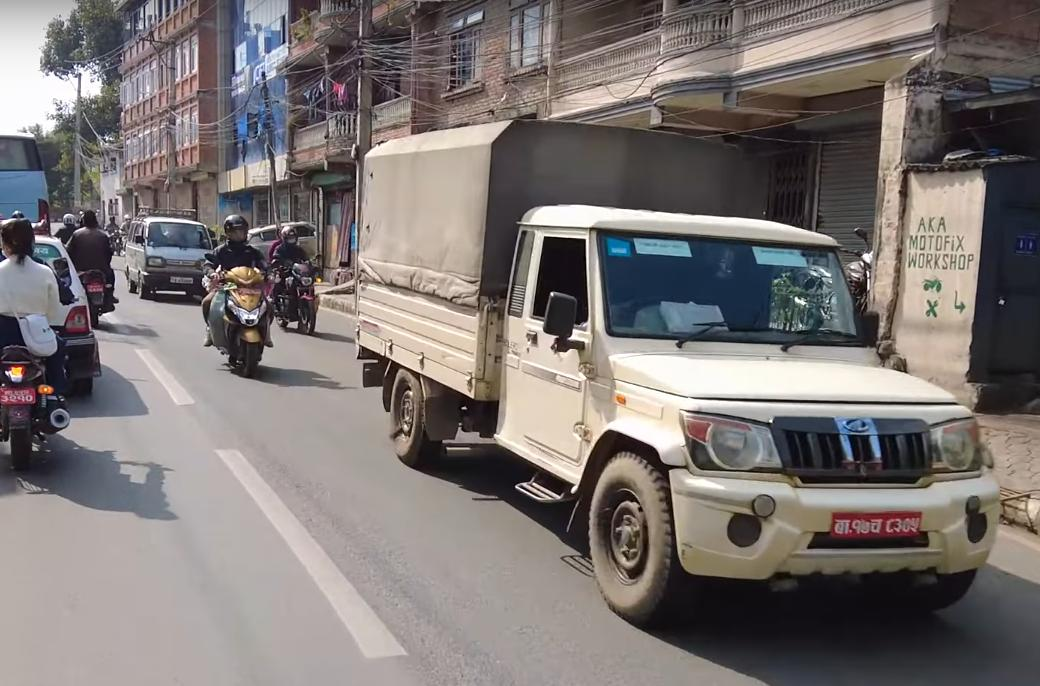bike: (262, 212, 325, 339), (66, 210, 121, 335)
bus: (0, 235, 78, 494), (0, 122, 59, 244)
scooter: (200, 216, 274, 385)
transport_vehicle: (340, 93, 1007, 641)
van: (117, 205, 222, 303)
